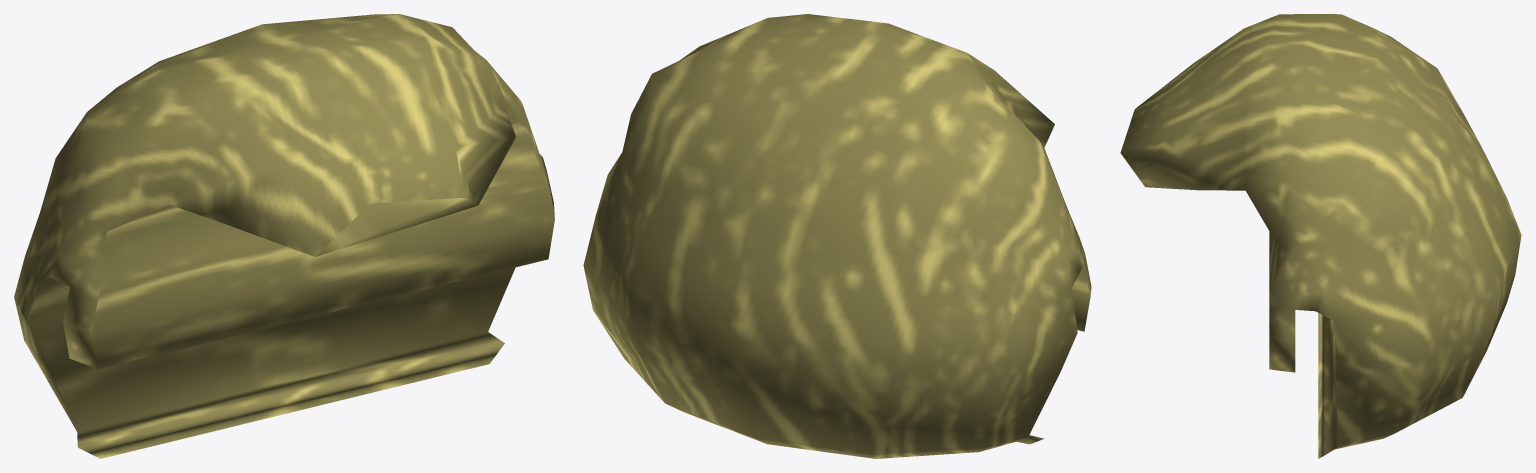
The model's file is detective_hair.fbx.
3 renders of one model, left to right at view 1: azimuth 30°, elevation 25°; view 2: azimuth 150°, elevation 25°; view 3: azimuth 270°, elevation 25°, orthographic. The views are drawn at different scales.
Visible parts, largest first — view 1: polySurface37; view 2: polySurface37; view 3: polySurface37.
Part boxes in pixels (<box>): polySurface37: <box>14,14,554,458</box>; polySurface37: <box>583,14,1091,458</box>; polySurface37: <box>1120,14,1521,458</box>.
Size of the model in its own units: 12 by 8.5 by 9.34.
